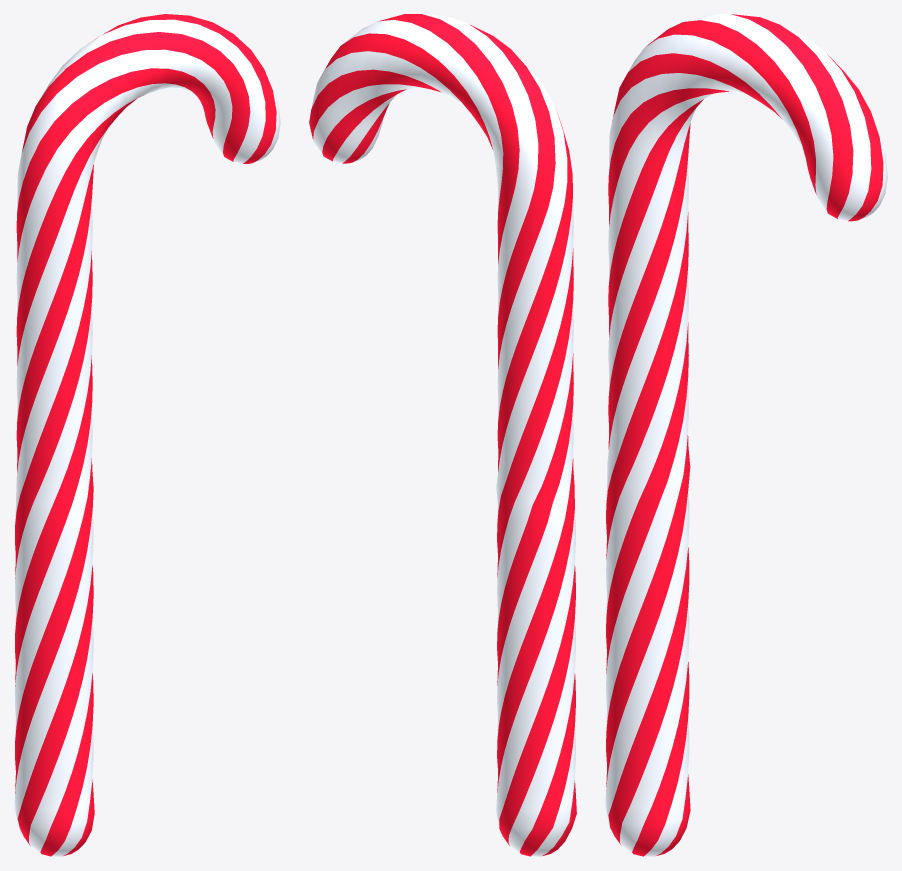
Rendered from CaramelCane_01.glb.
The picture shows the model from 3 angles, left to right: view 1: azimuth 30°, elevation 25°; view 2: azimuth 150°, elevation 25°; view 3: azimuth 330°, elevation 25°; orthographic projection. The views are drawn at different scales.
Visible parts, largest first — view 1: CaramelCane_01; view 2: CaramelCane_01; view 3: CaramelCane_01.
Part boxes in pixels (x1,y1,x2,y2): CaramelCane_01: (14,14,280,856); CaramelCane_01: (309,14,576,856); CaramelCane_01: (605,14,887,856).
Bounding box in the file's own units: 5.33 × 16.11 × 1.45.
1 material, 1 textured.
